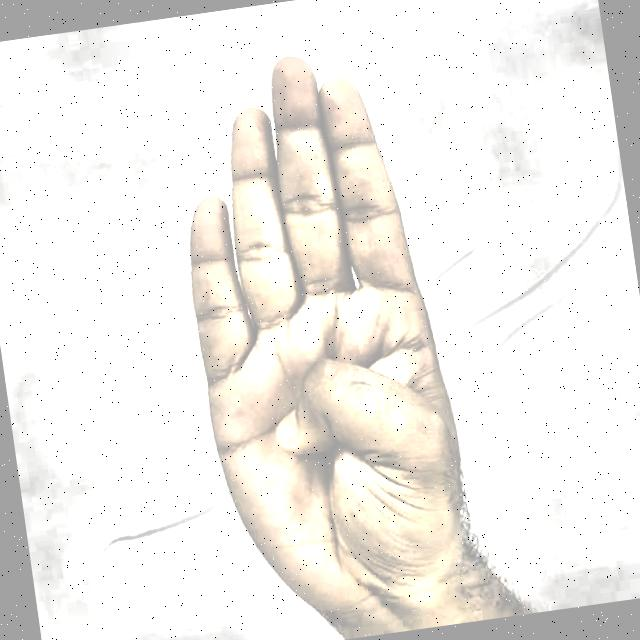Ba: (119, 18, 537, 640)
